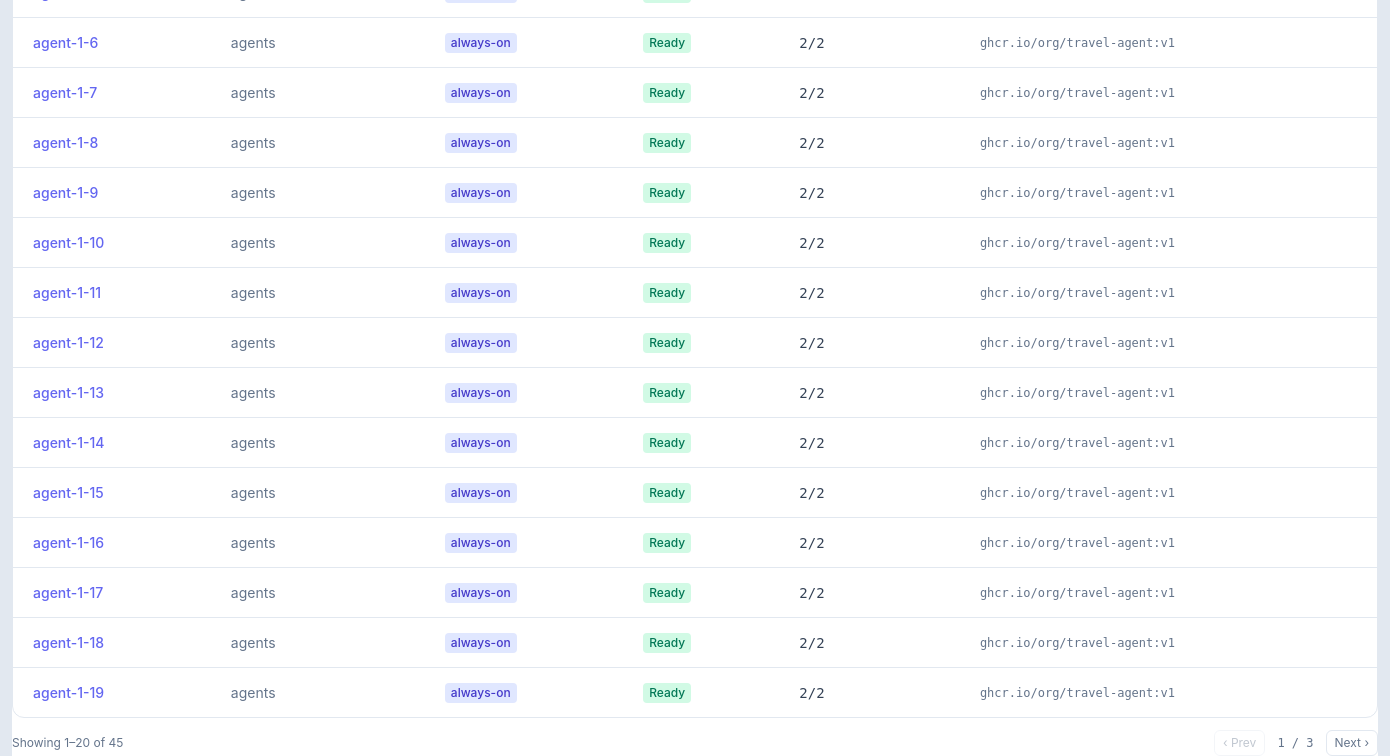
Test: AgentsTable › paginates when the server reports more than one page
(page scrolled)
Expected: the text "1 / 3" is shown, left=1277, top=736, right=1314, bottom=750
Click the button "Next ›": (1352, 743) left=1326, top=730, right=1378, bottom=755
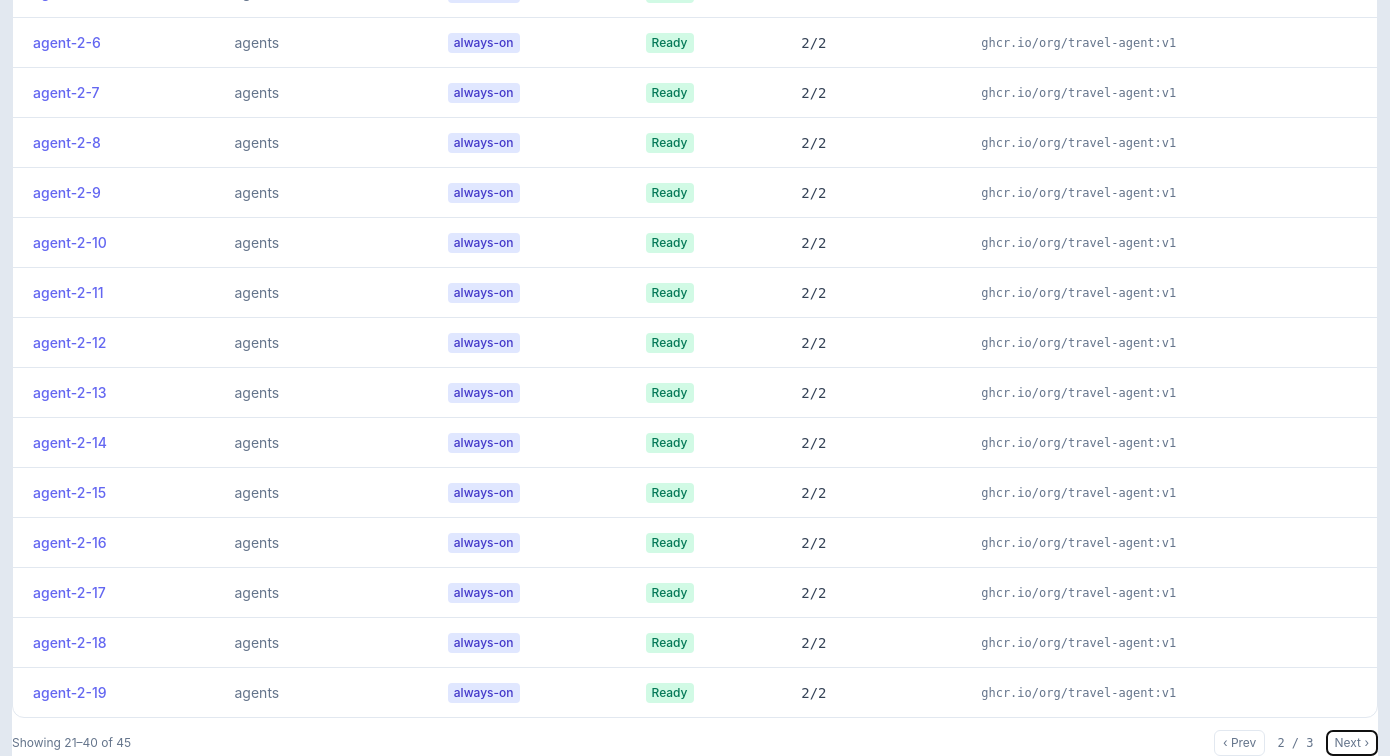
Expected: the text "2 / 3" is shown, left=1277, top=736, right=1314, bottom=750
